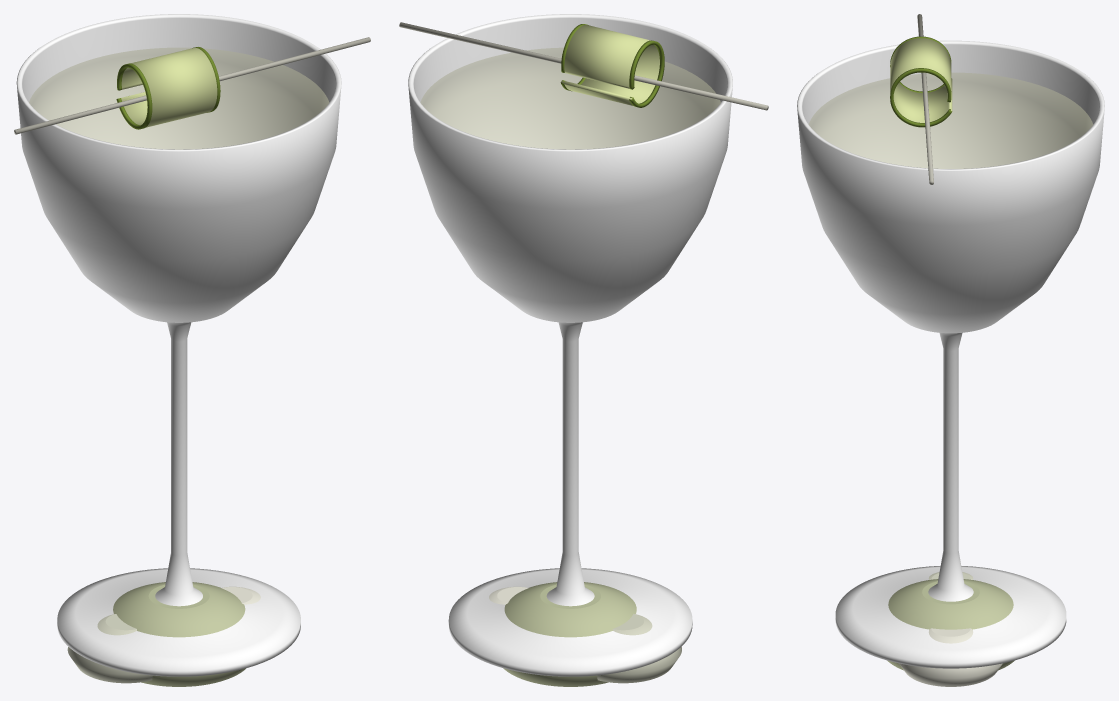
File: moga-dirty-sake-tini.glb
3 views of the same model, side by side, from view 1: azimuth 30°, elevation 25°; view 2: azimuth 150°, elevation 25°; view 3: azimuth 270°, elevation 25° (orthographic). The views are drawn at different scales.
Parts seen in each view (by area): view 1: glass, liquid, recipe_modifiers, garnish_cucumber_ribbon, garnish_pick, recipe_sake, garnish_green_edge_-1; view 2: glass, liquid, recipe_modifiers, garnish_cucumber_ribbon, garnish_pick, recipe_sake, garnish_green_edge_-1; view 3: glass, liquid, recipe_modifiers, garnish_cucumber_ribbon, recipe_shochu, garnish_green_edge_1, garnish_pick.
Boxes of the visible parts, x1,y1,x2,y2 form: glass: (16, 14, 341, 676); liquid: (29, 48, 328, 149); recipe_modifiers: (113, 582, 245, 686); garnish_cucumber_ribbon: (121, 48, 217, 127); garnish_pick: (14, 37, 370, 134); recipe_sake: (67, 614, 152, 683); garnish_green_edge_-1: (116, 63, 152, 129); glass: (408, 14, 732, 676); liquid: (420, 48, 720, 149); recipe_modifiers: (503, 582, 636, 686); garnish_cucumber_ribbon: (561, 25, 659, 105); garnish_pick: (399, 22, 768, 110); recipe_sake: (597, 614, 681, 683); garnish_green_edge_-1: (629, 40, 664, 107); glass: (797, 40, 1104, 668); liquid: (809, 73, 1092, 168); recipe_modifiers: (887, 579, 1014, 670); garnish_cucumber_ribbon: (890, 38, 952, 122); recipe_shochu: (899, 628, 1002, 686); garnish_green_edge_1: (890, 68, 952, 127); garnish_pick: (917, 14, 933, 184).
Size of the model in its own units: 1.64 by 2.73 by 1.28.
